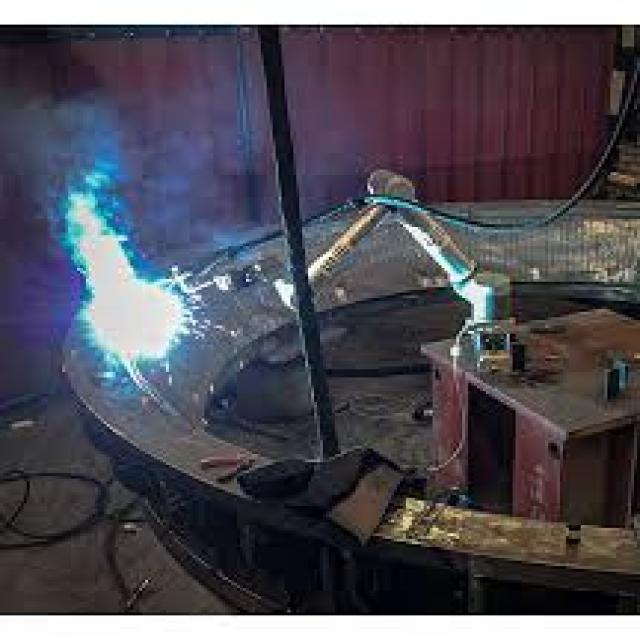welding: (92, 276, 182, 358), (82, 200, 132, 273)
